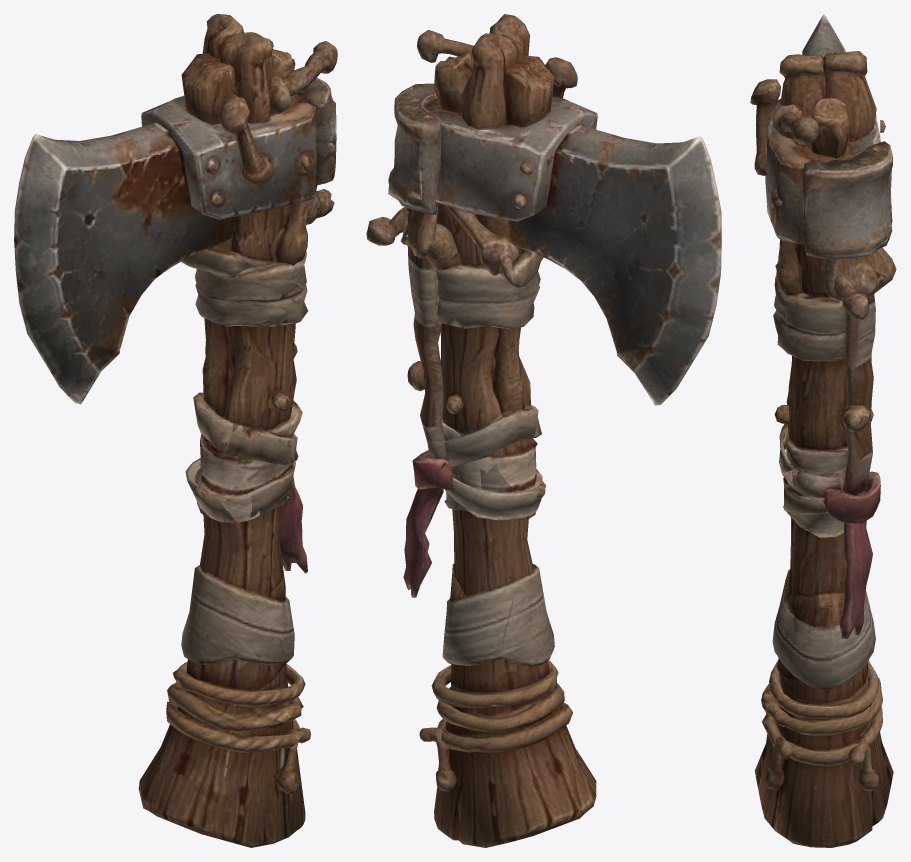
The model's file is tool_axe_t1.glb.
The picture shows the model from 3 angles, left to right: view 1: azimuth 30°, elevation 25°; view 2: azimuth 150°, elevation 25°; view 3: azimuth 270°, elevation 25°; orthographic projection. The views are drawn at different scales.
Bounding box in the file's own units: 0.2554 × 0.582 × 0.1001.
1 material, 1 textured.
